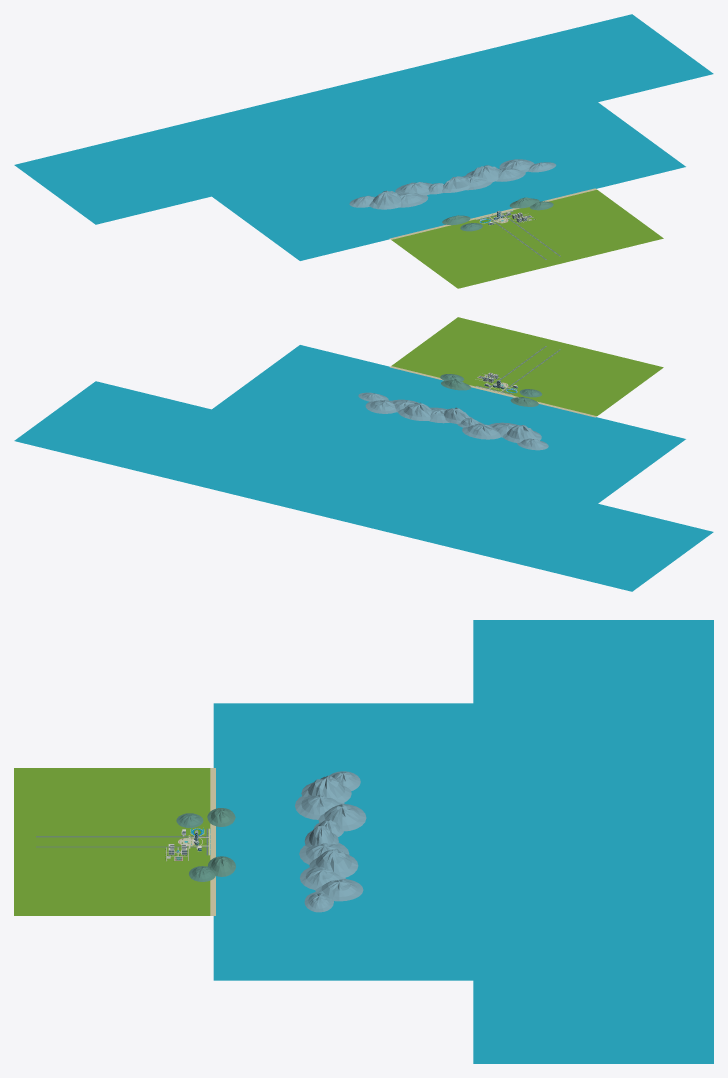
Rendered from campus-diorama.glb.
The picture shows the model from 3 angles, top to bottom: view 1: azimuth 30°, elevation 25°; view 2: azimuth 150°, elevation 25°; view 3: azimuth 270°, elevation 25°; orthographic projection. The views are drawn at different scales.
Visible parts, largest first — view 1: HC02_Water_PS2_turquoise_water_g256_+0_+0, HC02_Ground_PS2_grass_dapple_g256_+0_+0, HC02_Backdrop_PS2_mountain_far_g256_+0_+1, HC02_Backdrop_PS2_mountain_g256_+0_+0; view 2: HC02_Water_PS2_turquoise_water_g256_+0_+0, HC02_Ground_PS2_grass_dapple_g256_+0_+0, HC02_Backdrop_PS2_mountain_far_g256_+0_+1, HC02_Backdrop_PS2_mountain_g256_+0_+0; view 3: HC02_Water_PS2_turquoise_water_g256_+0_+0, HC02_Ground_PS2_grass_dapple_g256_+0_+0, HC02_Backdrop_PS2_mountain_far_g256_+0_+1, HC02_Backdrop_PS2_mountain_g256_+0_+0, HC02_Ground_PS2_road_g64_+0_+1.
Boxes of the visible parts, box(x1,y1,x2,y2) form: HC02_Water_PS2_turquoise_water_g256_+0_+0: box(14, 14, 713, 260); HC02_Ground_PS2_grass_dapple_g256_+0_+0: box(391, 190, 663, 288); HC02_Backdrop_PS2_mountain_far_g256_+0_+1: box(349, 159, 556, 209); HC02_Backdrop_PS2_mountain_g256_+0_+0: box(442, 197, 553, 231); HC02_Water_PS2_turquoise_water_g256_+0_+0: box(14, 345, 713, 591); HC02_Ground_PS2_grass_dapple_g256_+0_+0: box(391, 317, 663, 415); HC02_Backdrop_PS2_mountain_far_g256_+0_+1: box(358, 392, 548, 450); HC02_Backdrop_PS2_mountain_g256_+0_+0: box(440, 374, 542, 406); HC02_Water_PS2_turquoise_water_g256_+0_+0: box(213, 620, 713, 1063); HC02_Ground_PS2_grass_dapple_g256_+0_+0: box(14, 768, 210, 915); HC02_Backdrop_PS2_mountain_far_g256_+0_+1: box(295, 771, 366, 912); HC02_Backdrop_PS2_mountain_g256_+0_+0: box(176, 808, 235, 881); HC02_Ground_PS2_road_g64_+0_+1: box(36, 828, 208, 855).
Bounding box in the file's own units: 4800 × 79.7 × 3200.
